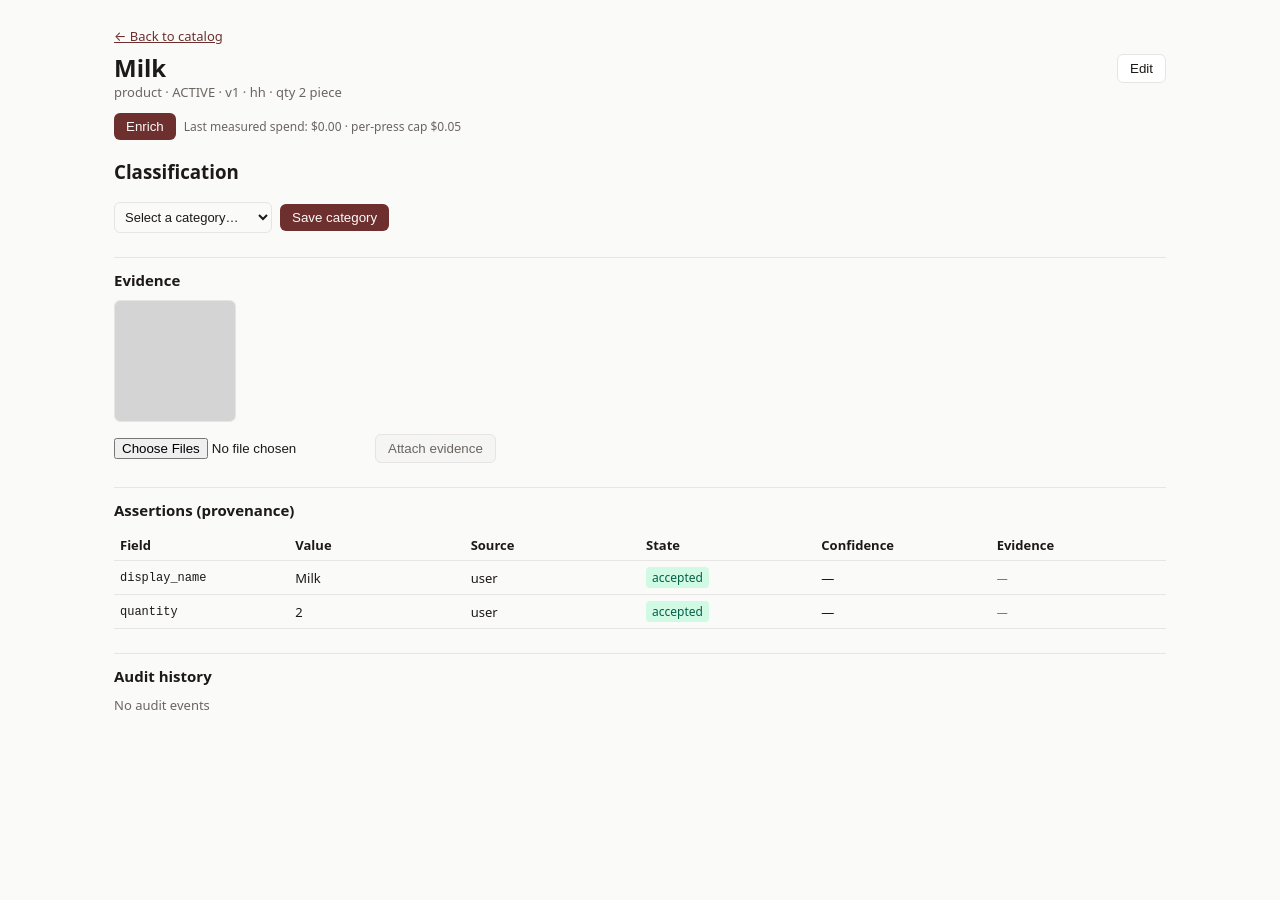
Scenario: EnrichButton per-press cap (SG-082) › an enrich press renders the returned brand alternate with its source (SG-119 G2)
Click the button "Enrich": (145, 126) [114, 113, 176, 140]
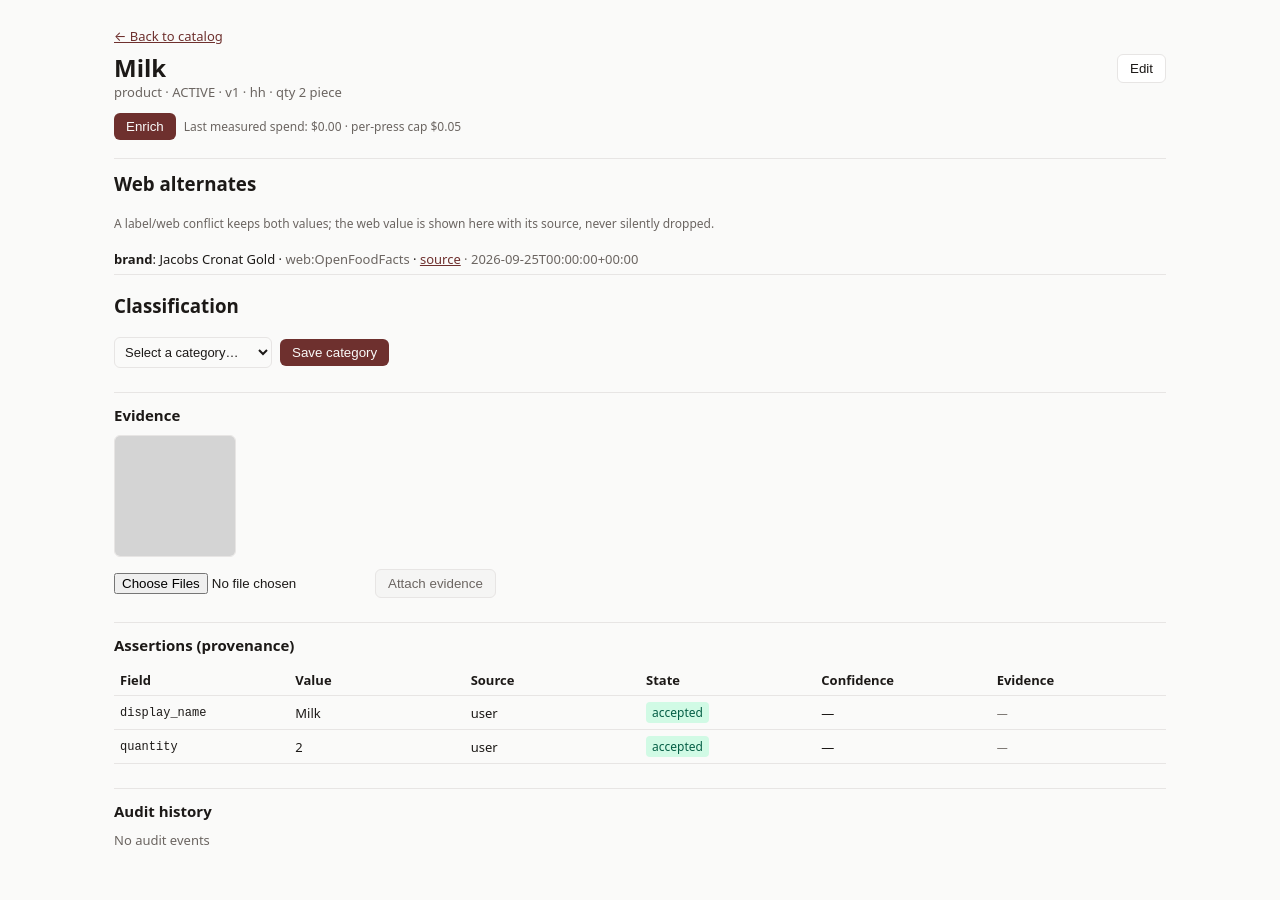
Check: the text "brand" is shown, box [114, 250, 152, 268]
Check: the text "Jacobs Cronat Gold" is shown, box [159, 250, 275, 268]
Check: the text "web:OpenFoodFacts" is shown, box [286, 250, 410, 268]
